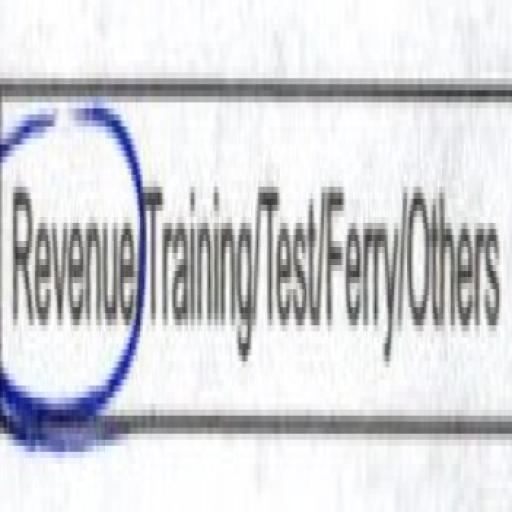check: (1, 85, 146, 458)
